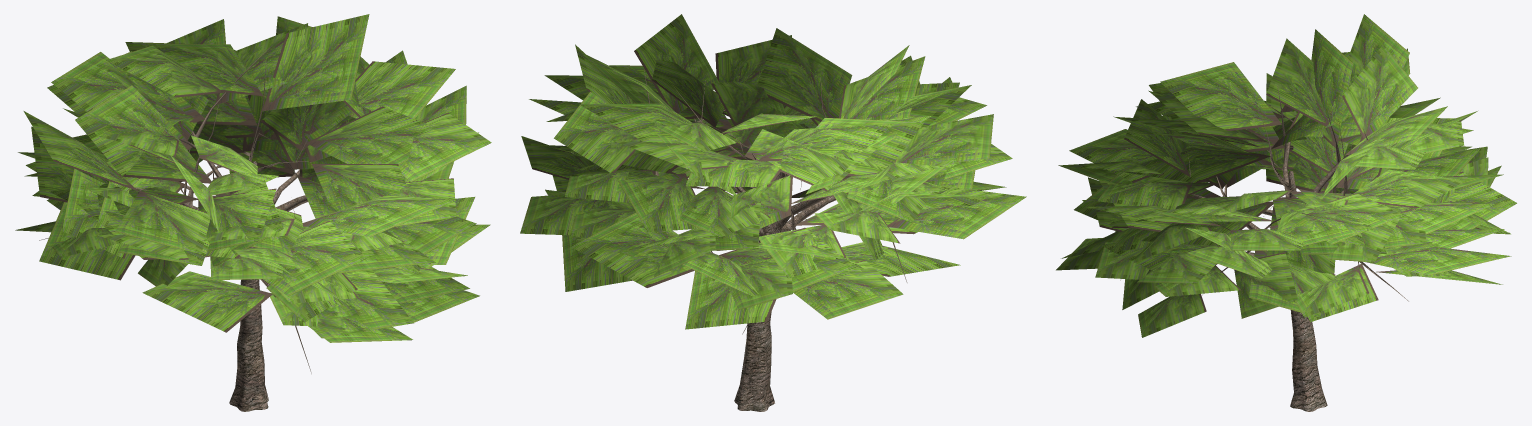
The model's file is Tree01.fbx.
3 views of the same model, side by side, from view 1: azimuth 30°, elevation 25°; view 2: azimuth 150°, elevation 25°; view 3: azimuth 270°, elevation 25° (orthographic). The views are drawn at different scales.
Parts seen in each view (by area): view 1: Tree_1, Tree_0; view 2: Tree_1, Tree_0; view 3: Tree_1, Tree_0.
Part boxes in pixels (<box>): Tree_1: <box>15,14,491,342</box>; Tree_0: <box>39,38,380,411</box>; Tree_1: <box>520,14,1026,329</box>; Tree_0: <box>629,71,917,411</box>; Tree_1: <box>1056,14,1516,337</box>; Tree_0: <box>1120,85,1408,411</box>.
Bounding box in the file's own units: 405 × 285 × 381.
2 materials, 2 textured.
